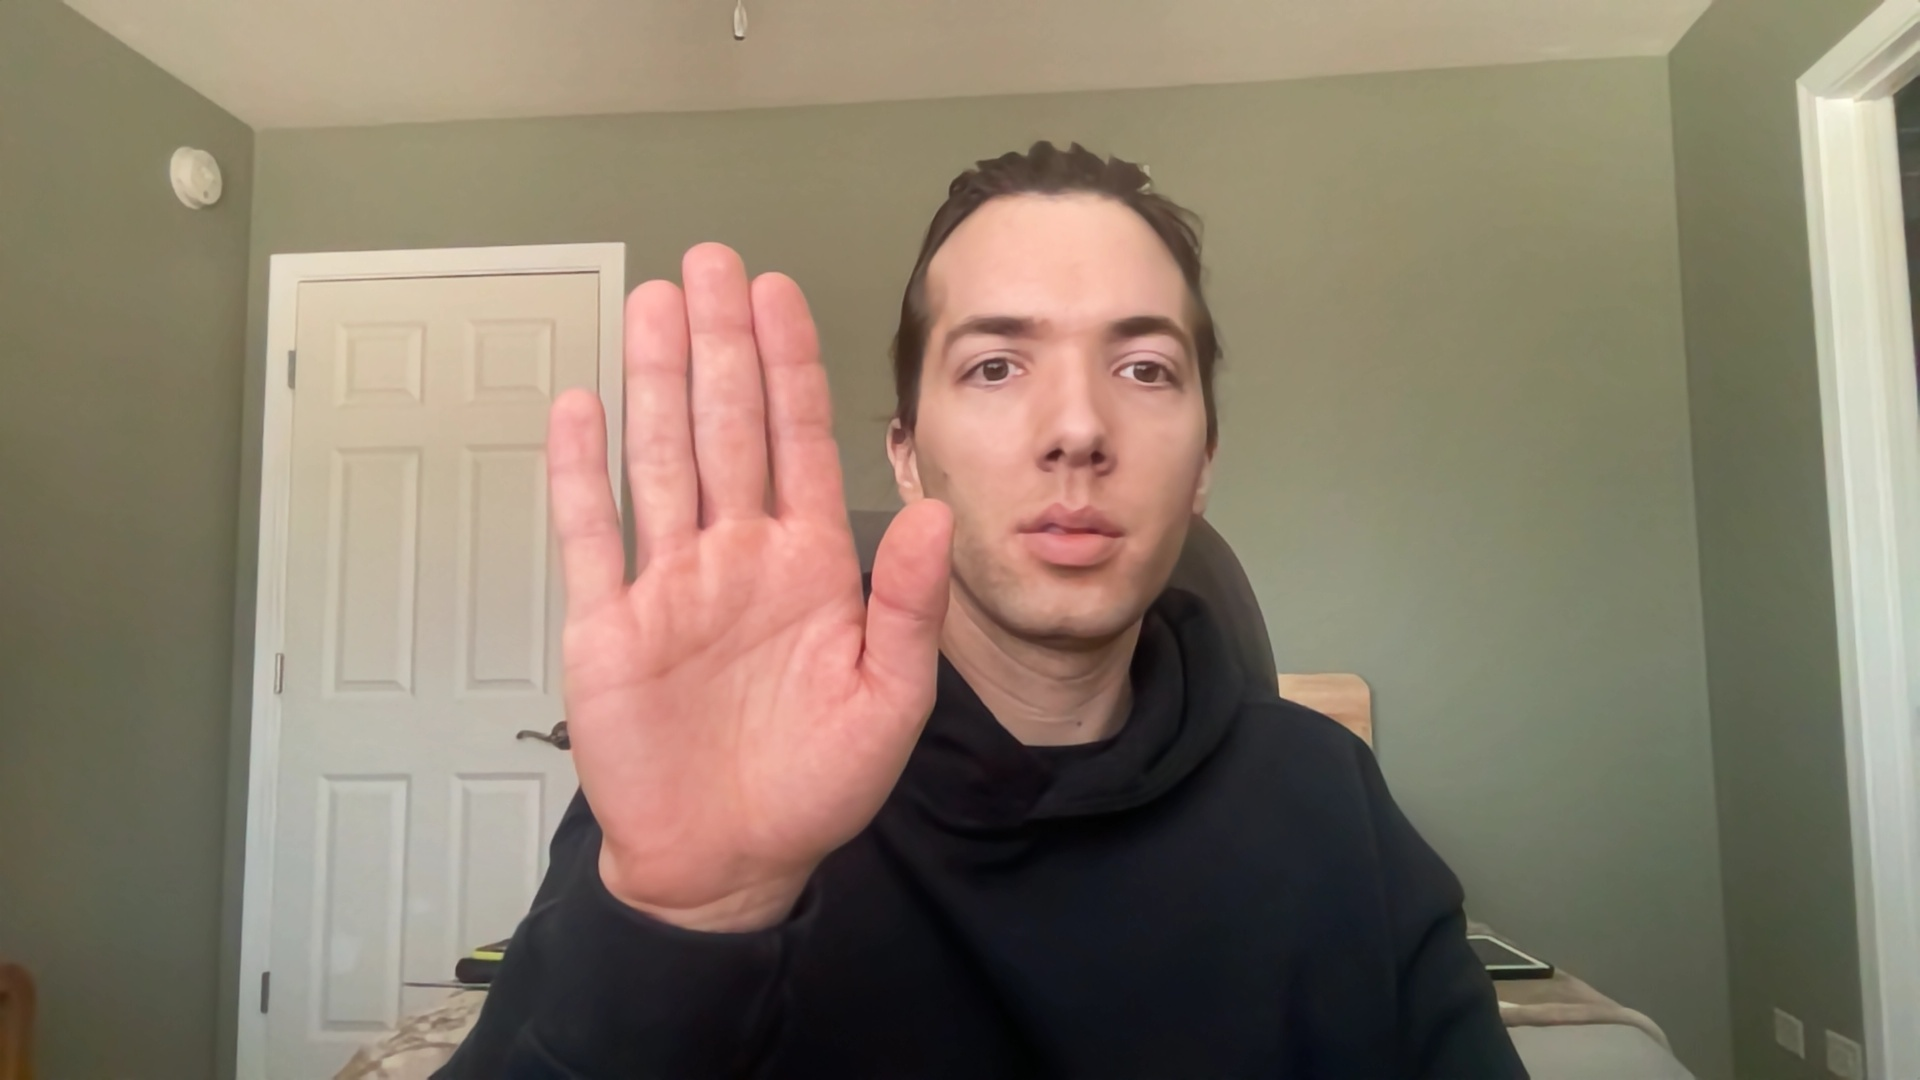Hello: (504, 218, 982, 953)
